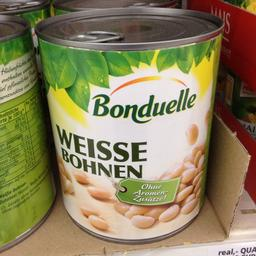beans: (30, 6, 225, 241)
